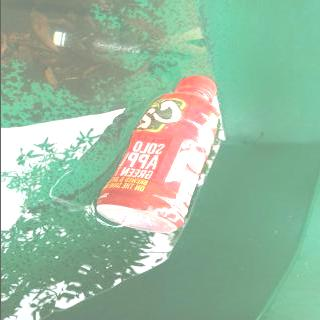bottle: (94, 74, 222, 235)
